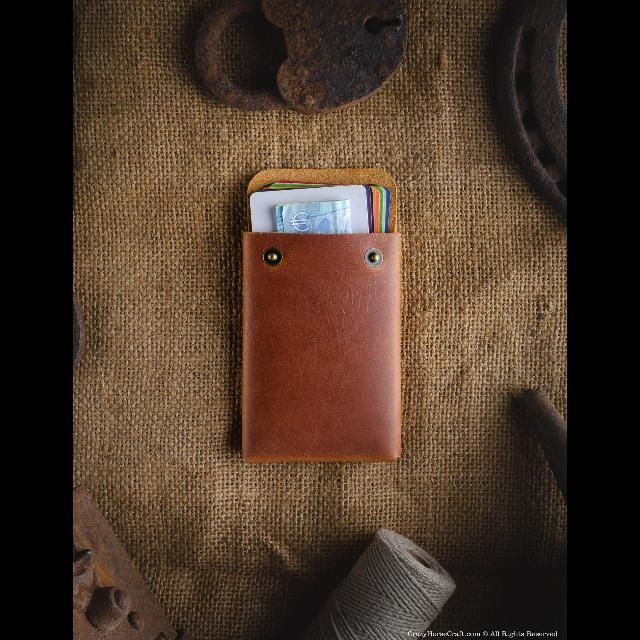wallet: (234, 162, 411, 468)
